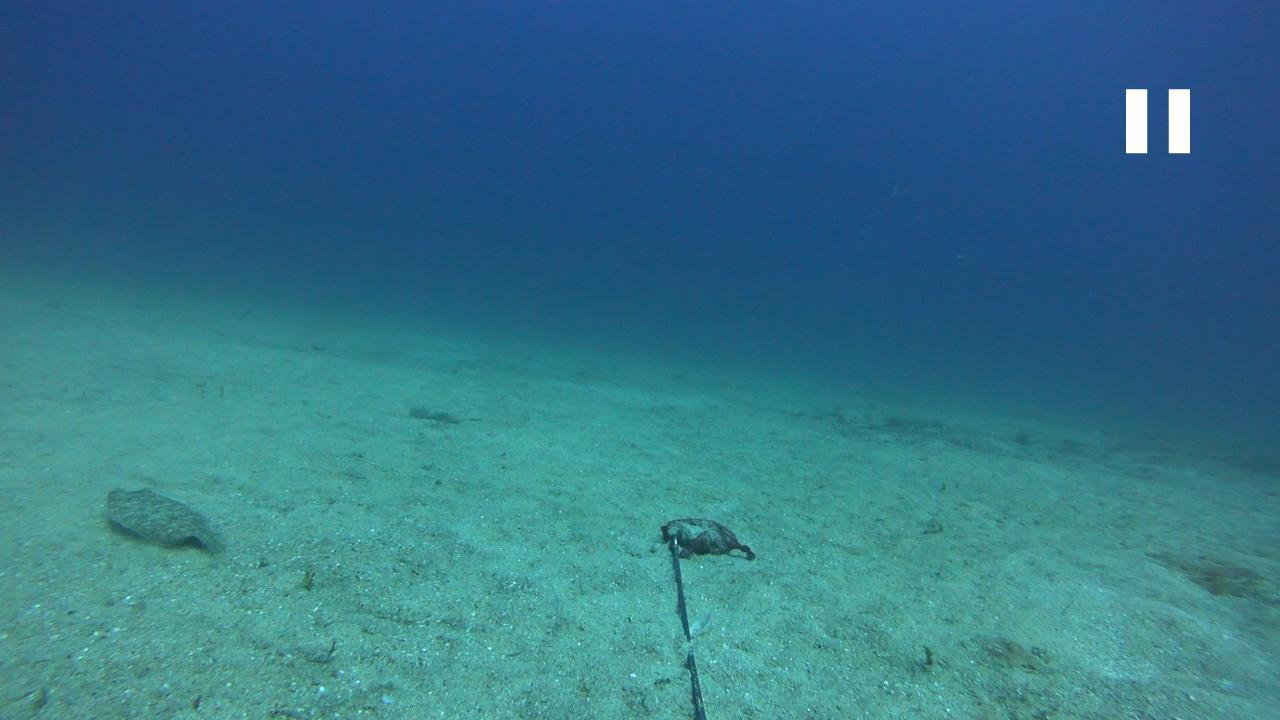bothus: (98, 482, 231, 557)
